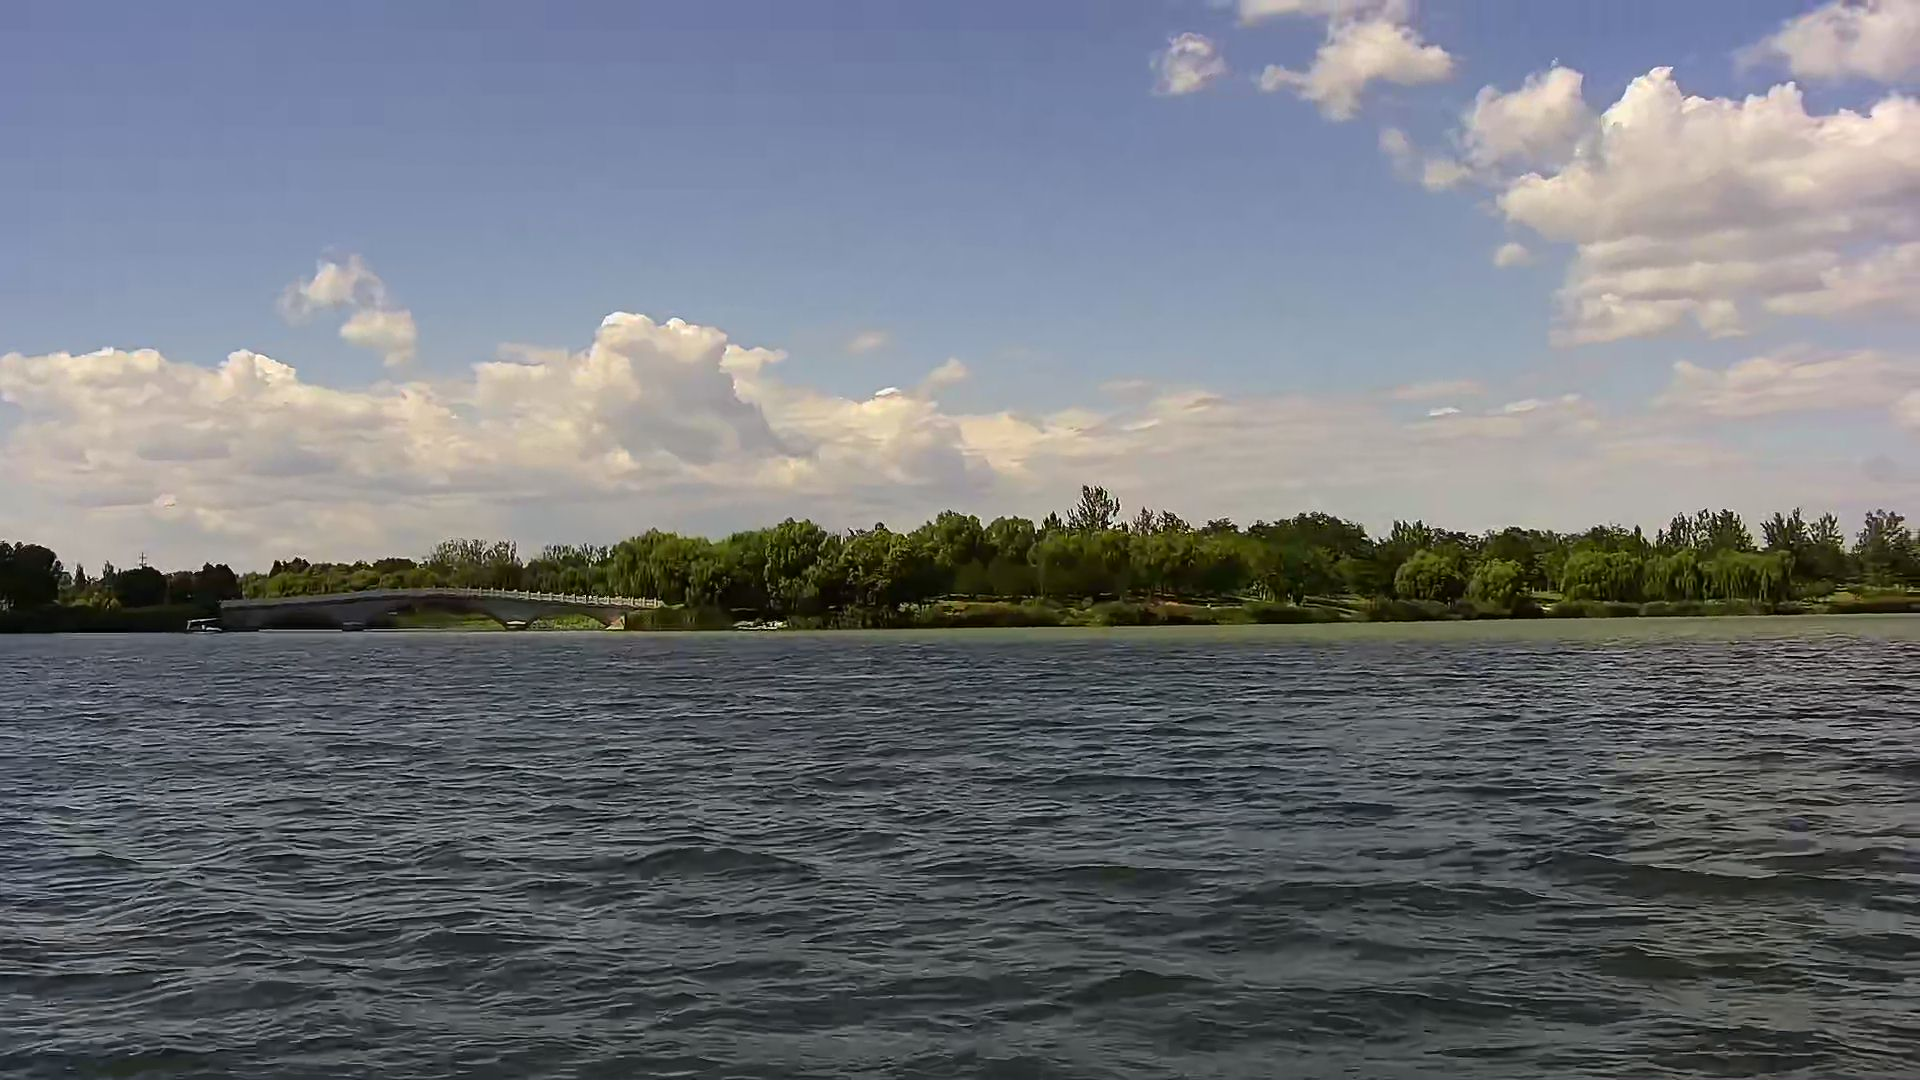bridge: (222, 585, 684, 637)
